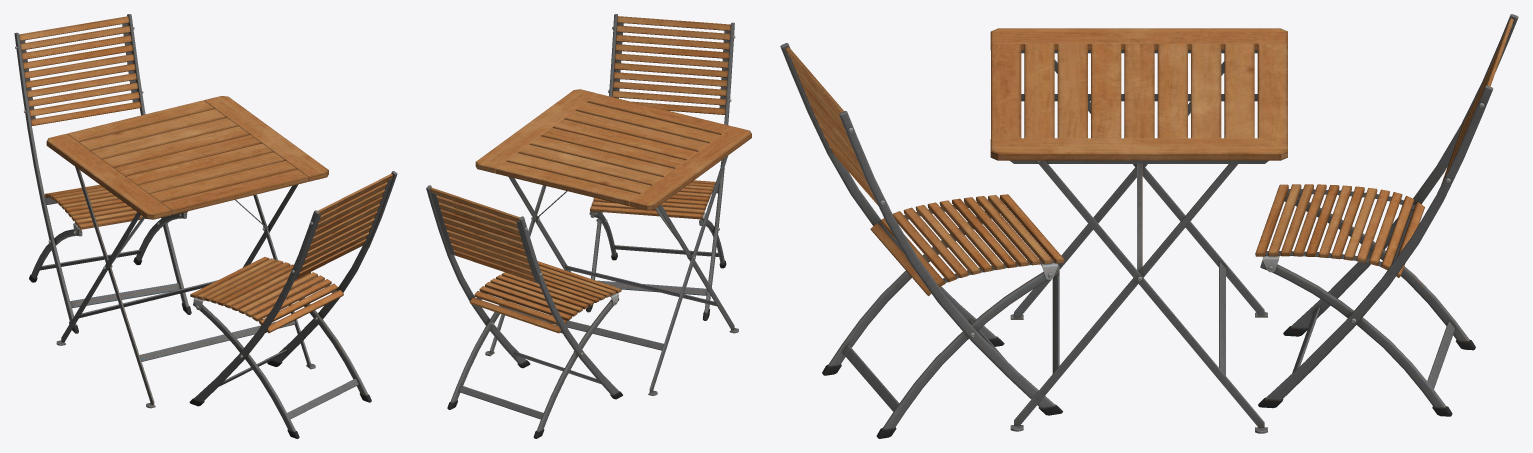
File: outdoor_table_chair_set_01.glb
3 views of the same model, side by side, from view 1: azimuth 30°, elevation 25°; view 2: azimuth 150°, elevation 25°; view 3: azimuth 270°, elevation 25° (orthographic). The views are drawn at different scales.
Parts seen in each view (by area): view 1: outdoor_table_chair_set_01_chair_01, outdoor_table_chair_set_01_table; view 2: outdoor_table_chair_set_01_chair_01, outdoor_table_chair_set_01_table; view 3: outdoor_table_chair_set_01_table, outdoor_table_chair_set_01_chair_01.
Boxes of the visible parts, left/top/right/bottom form: outdoor_table_chair_set_01_chair_01: left=14, top=14, right=397, bottom=438; outdoor_table_chair_set_01_table: left=46, top=96, right=328, bottom=408; outdoor_table_chair_set_01_chair_01: left=426, top=14, right=735, bottom=438; outdoor_table_chair_set_01_table: left=475, top=89, right=751, bottom=395; outdoor_table_chair_set_01_table: left=990, top=28, right=1287, bottom=433; outdoor_table_chair_set_01_chair_01: left=780, top=14, right=1518, bottom=438.
Size of the model in its own units: 0.7417 by 0.8587 by 1.72.
Materials: 2 (2 with a texture image).
